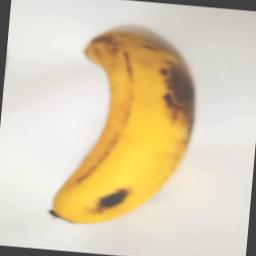Banana Unripe: (44, 23, 203, 232)
